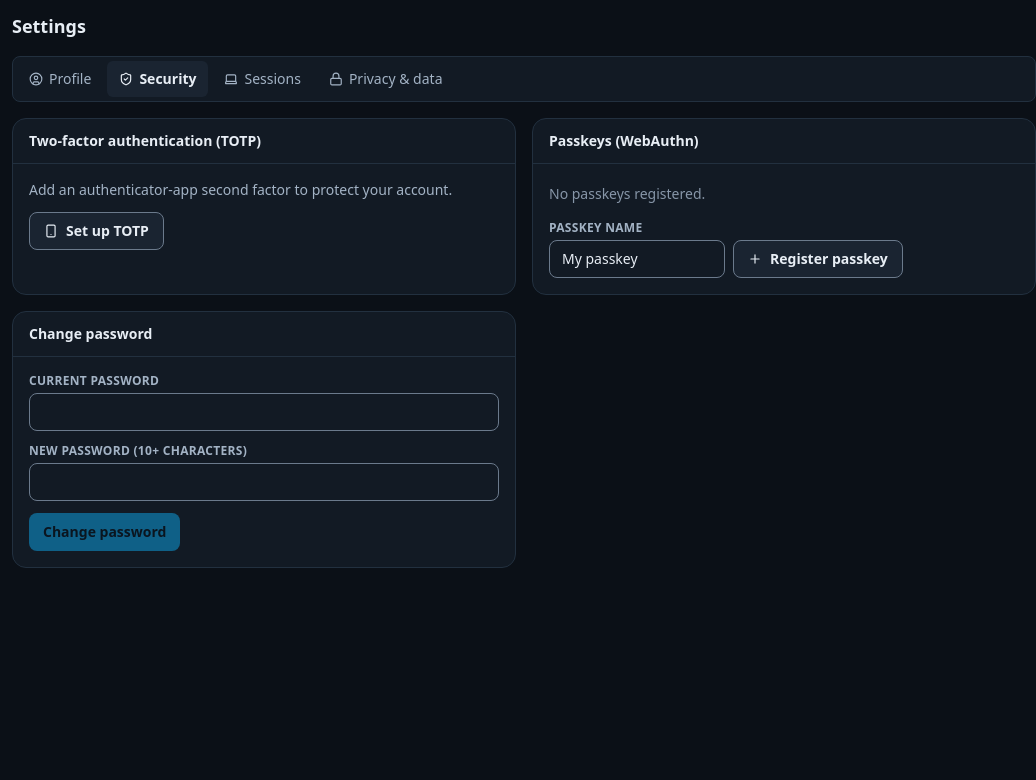
Test: SettingsPage › changes the password and reports success
Type "old-pass-123" into the password field labelled "Current password" at (264, 412), box [29,393,499,431]
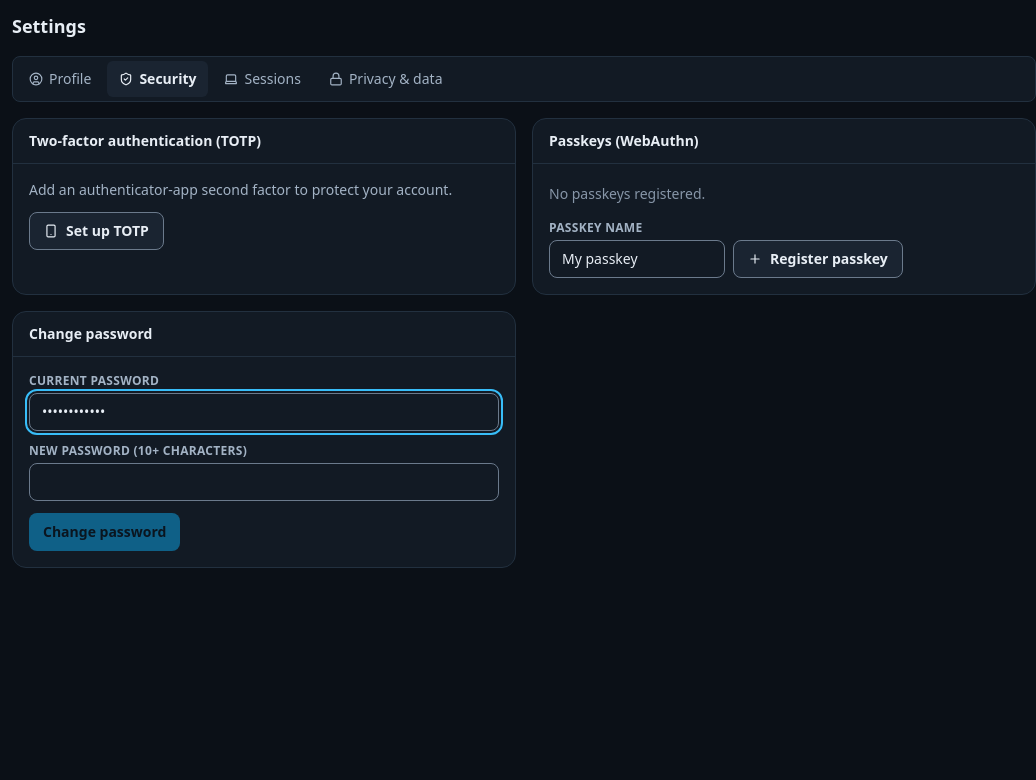
Type "new-pass-456" into the password field labelled "New password (10+ characters)" at (264, 482), box [29,463,499,501]
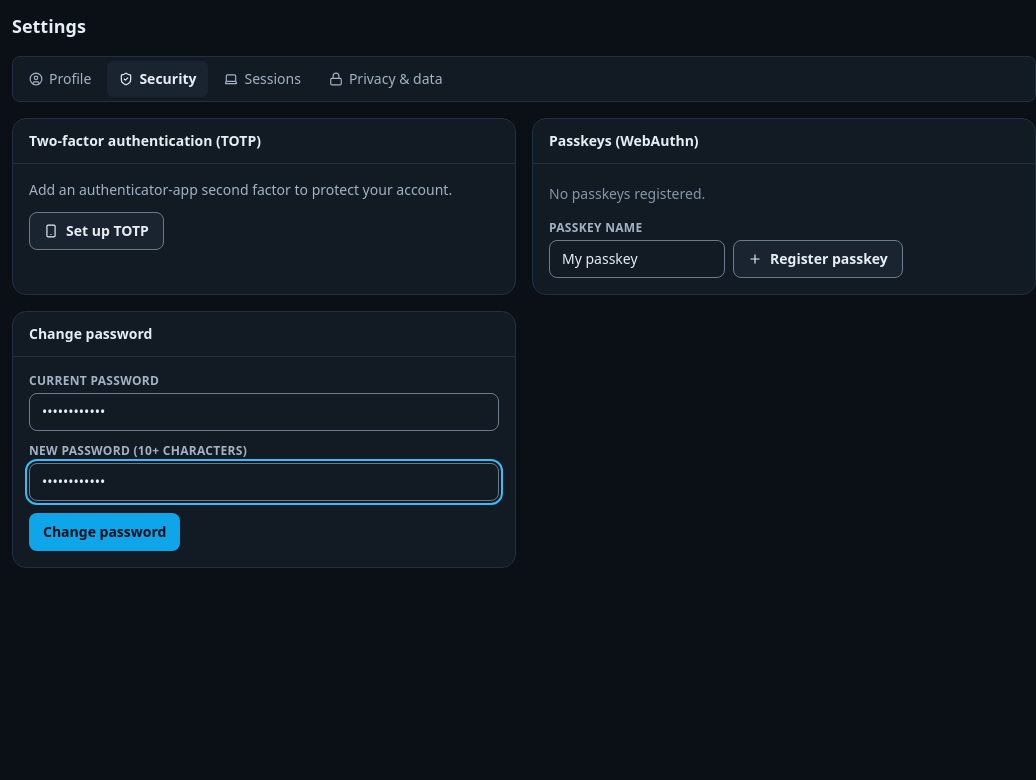
Click the button "Change password" at (105, 532), box [29,513,180,551]
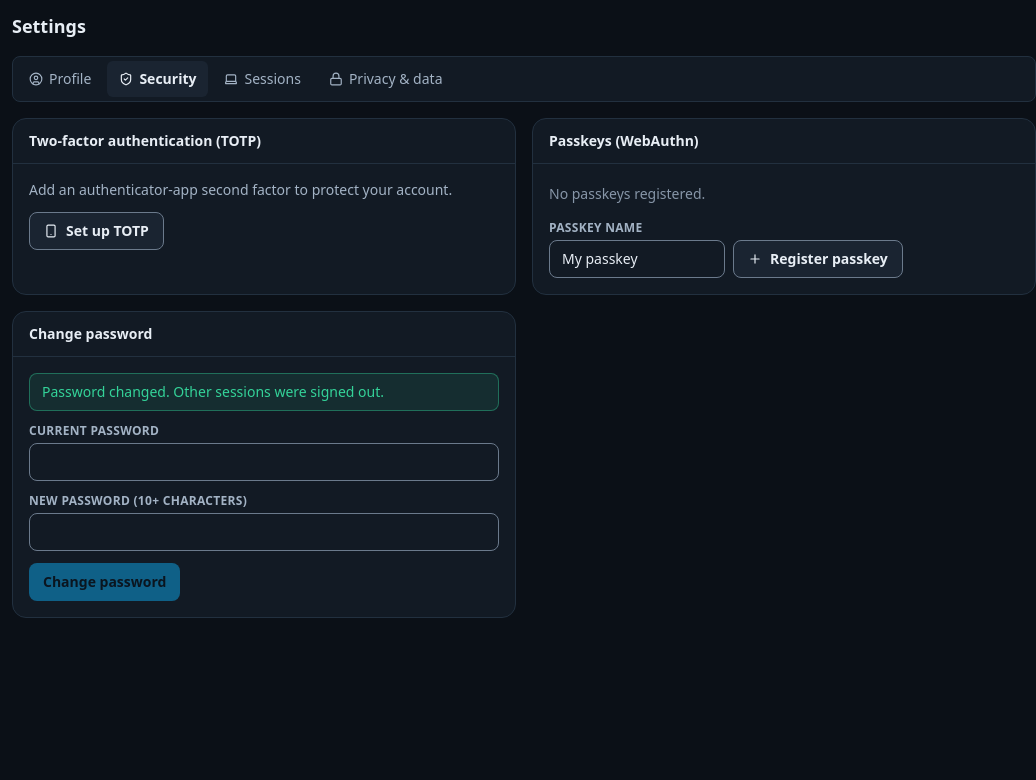
Expected: the text "Password changed. Other sessions were signed out." is shown, [29,373,499,411]
